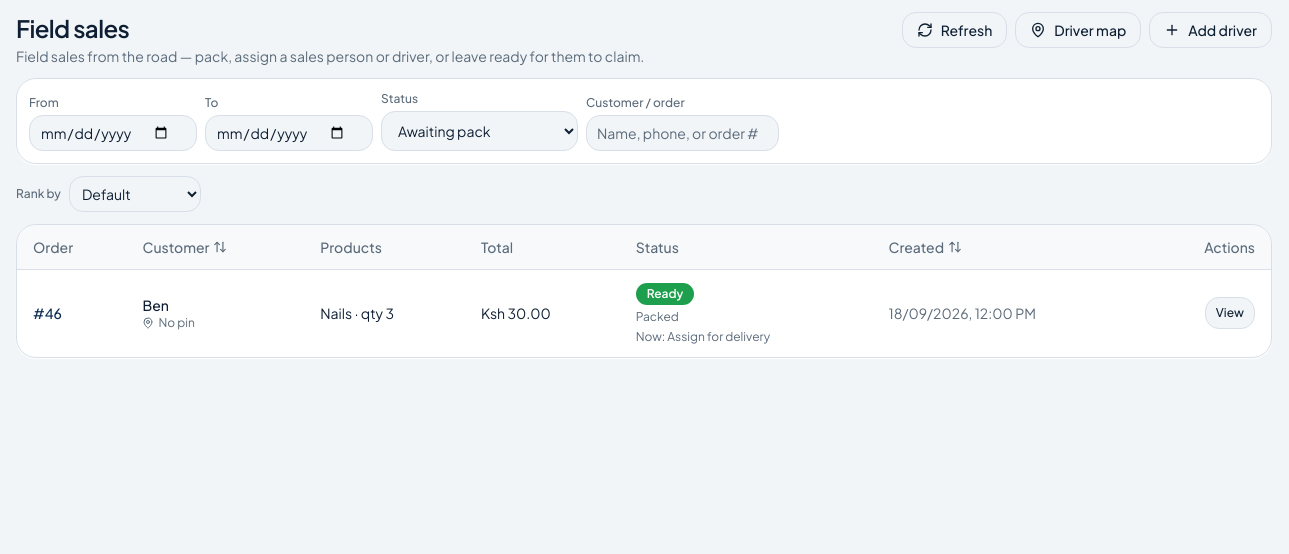
Test: FieldSalesPage › driver map fetch error still shows the panel
Click the button with test id "field-sales-driver-map": {"x": 1078, "y": 30} top-left (1015, 12), bottom-right (1141, 48)
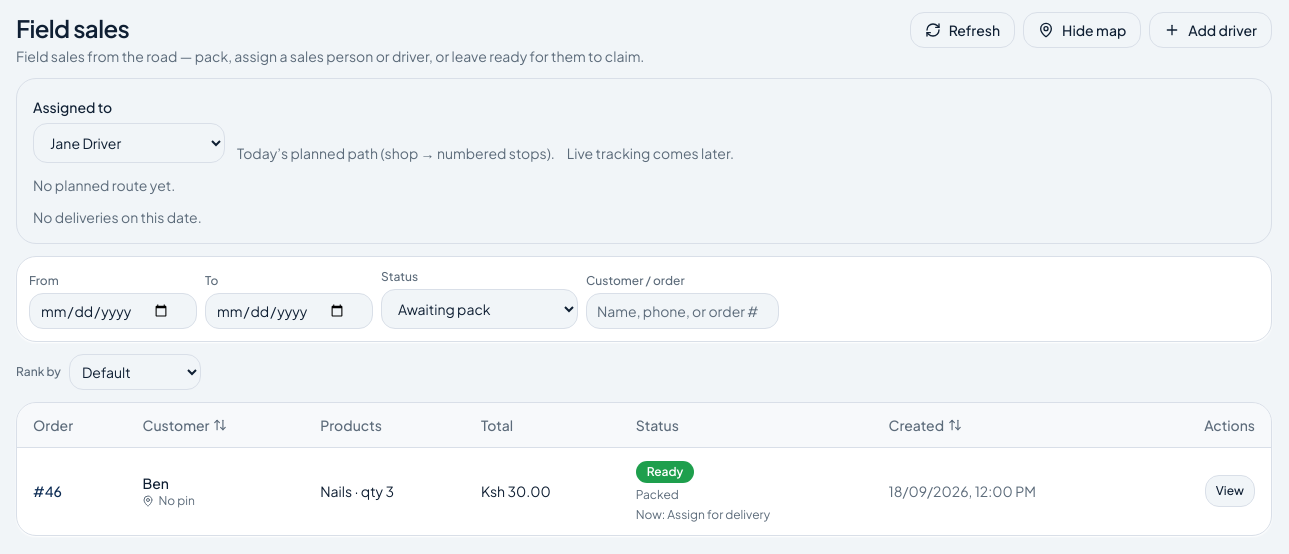
Expected: the element with test id "field-sales-map-panel" is shown, top-left (16, 78), bottom-right (1272, 244)
Expected: the text "No planned route yet." is shown, top-left (33, 176), bottom-right (175, 194)
Expected: the text "No deliveries on this date." is shown, top-left (33, 208), bottom-right (202, 226)
